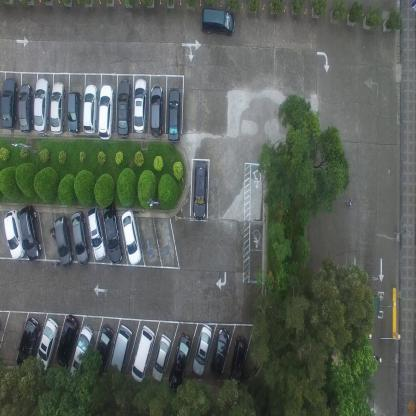car: (167, 332, 192, 393), (130, 324, 155, 383), (102, 202, 124, 266), (15, 315, 40, 371), (55, 312, 79, 370), (18, 202, 41, 261), (34, 316, 58, 372), (109, 324, 132, 380), (70, 323, 93, 377), (191, 323, 214, 377), (121, 208, 142, 267), (86, 205, 107, 261), (92, 323, 114, 376), (3, 209, 25, 260), (209, 326, 230, 378), (200, 7, 236, 37), (70, 209, 89, 264), (53, 215, 73, 267), (151, 334, 172, 382), (228, 335, 247, 387), (98, 82, 114, 140), (32, 76, 48, 134), (194, 160, 209, 221), (49, 79, 65, 135), (133, 76, 148, 133), (117, 77, 131, 138), (1, 77, 17, 130), (82, 81, 97, 134), (167, 86, 181, 142), (149, 85, 164, 137), (18, 81, 32, 132), (67, 88, 80, 133)
